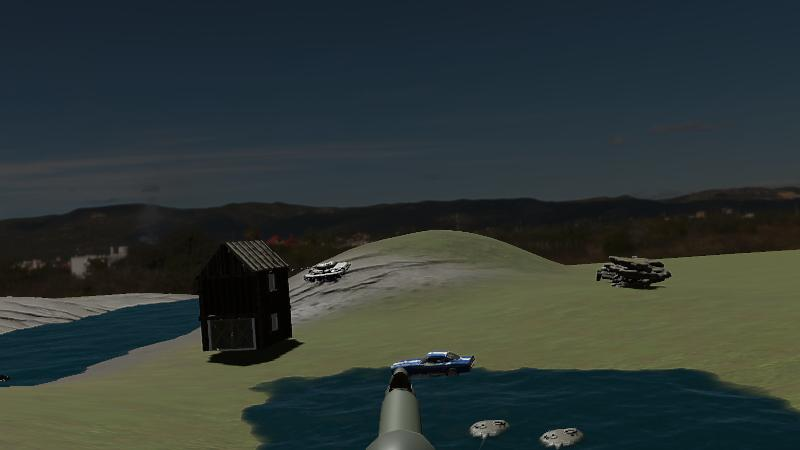House: (193, 235, 295, 359)
Tank: (595, 253, 672, 291), (302, 256, 354, 285)
car: (389, 347, 476, 384)
